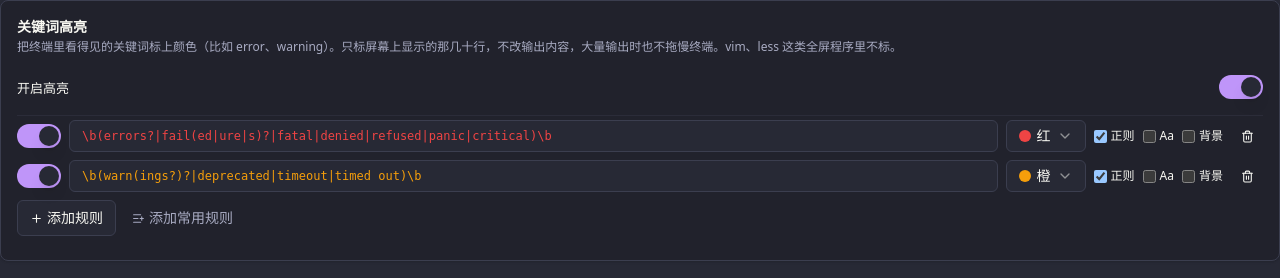
Test: 高亮设置 › 删除规则马上存；写错的正则有提示
Click the 1st button titled "删除" at (1247, 136), box [1231,120,1263,152]
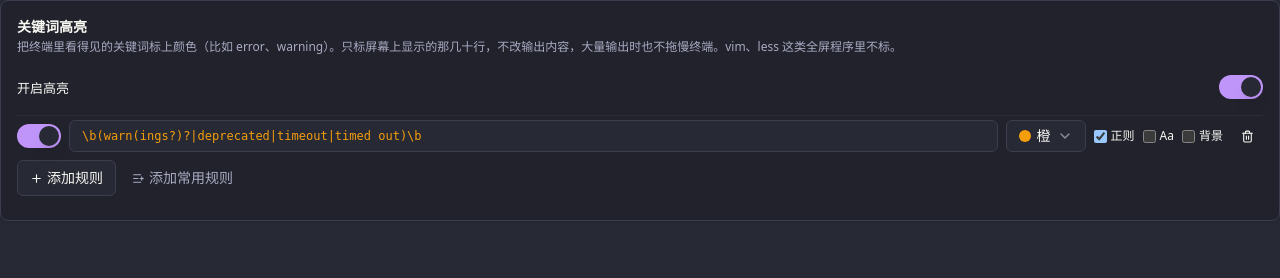
Replace the text in the field named "高亮规则" with "warn(" at (533, 136), box [69,120,998,152]
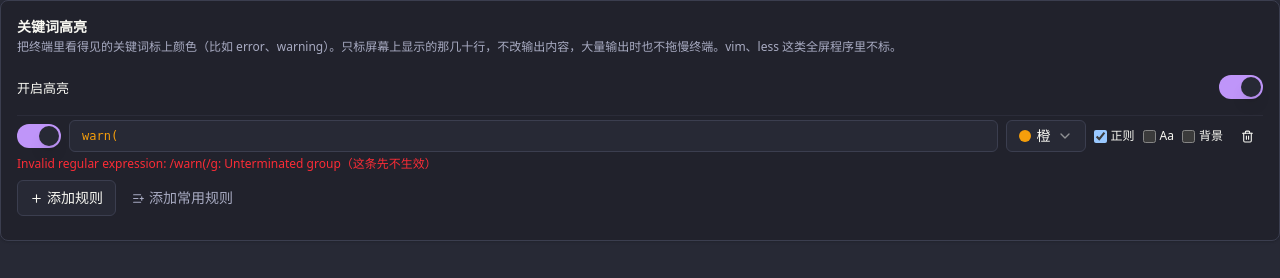
expect the text "这条先不生效" is shown: met, box [341,155,437,172]
